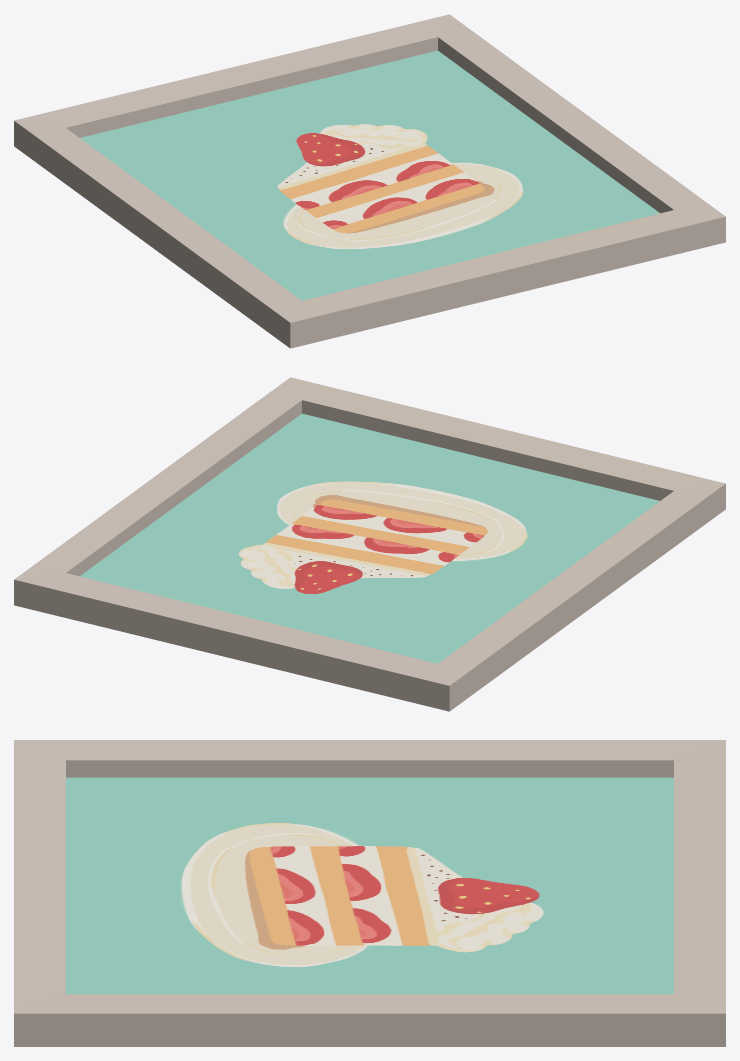
File: cake_picture.fbx
The picture shows the model from 3 angles, top to bottom: view 1: azimuth 30°, elevation 25°; view 2: azimuth 150°, elevation 25°; view 3: azimuth 270°, elevation 25°; orthographic projection. The views are drawn at different scales.
Parts seen in each view (by area): view 1: Plane.001; view 2: Plane.001; view 3: Plane.001.
Boxes of the visible parts, box(x1,y1,x2,y2) form: Plane.001: box(14, 14, 725, 348); Plane.001: box(14, 377, 725, 711); Plane.001: box(14, 740, 725, 1046).
Bounding box in the file's own units: 182 × 10.28 × 200.
Materials: 2 (1 with a texture image).
